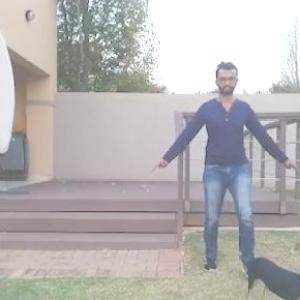land: (166, 68, 280, 267)
